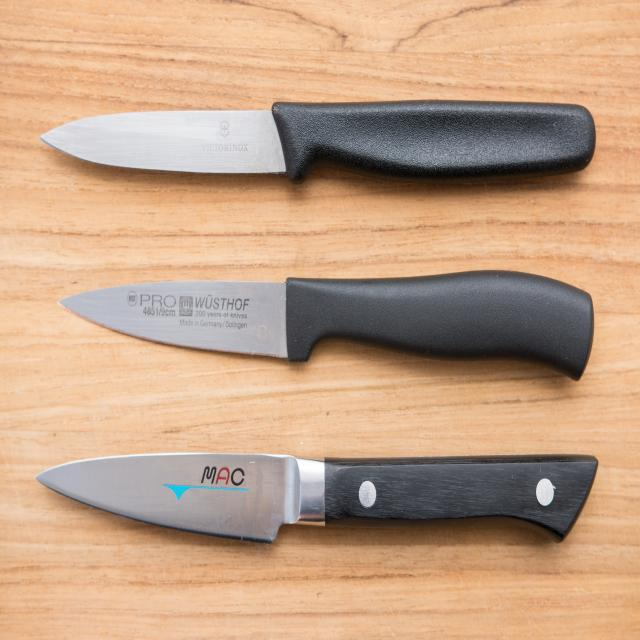Weapon: (59, 254, 601, 403), (34, 81, 599, 199), (29, 444, 616, 556)
